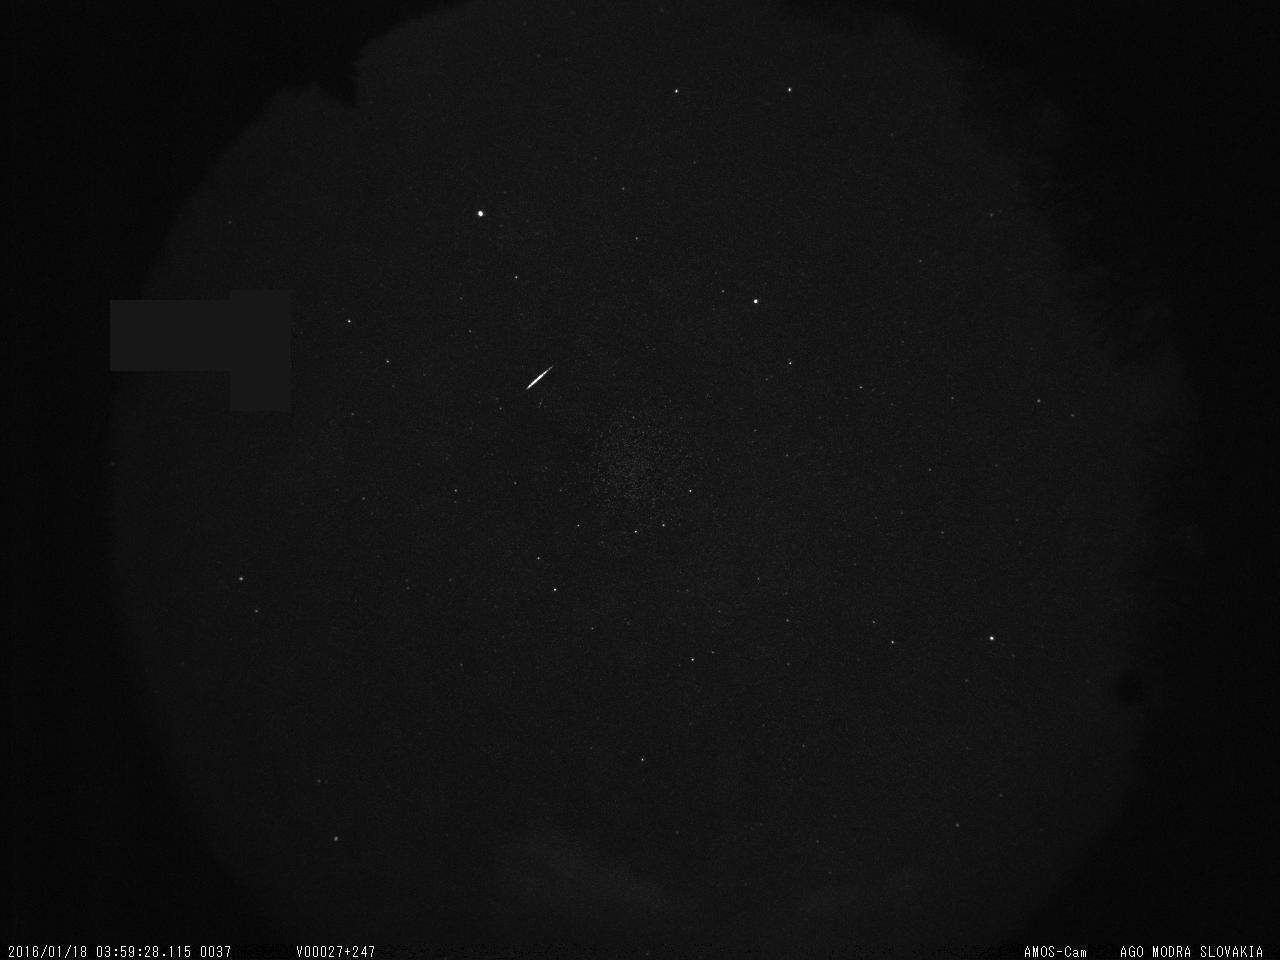Meteor: (523, 363, 554, 391)
